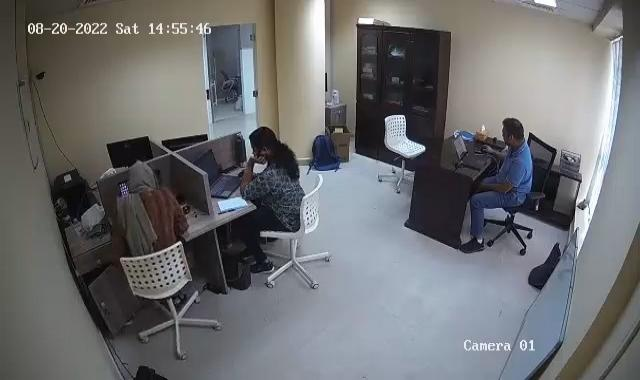no_hairnet: (243, 126, 281, 167), (122, 160, 154, 194), (502, 115, 530, 150)
